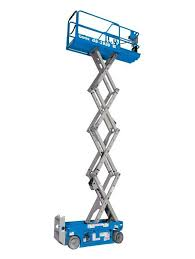Scissor Lift: (53, 9, 142, 251)
